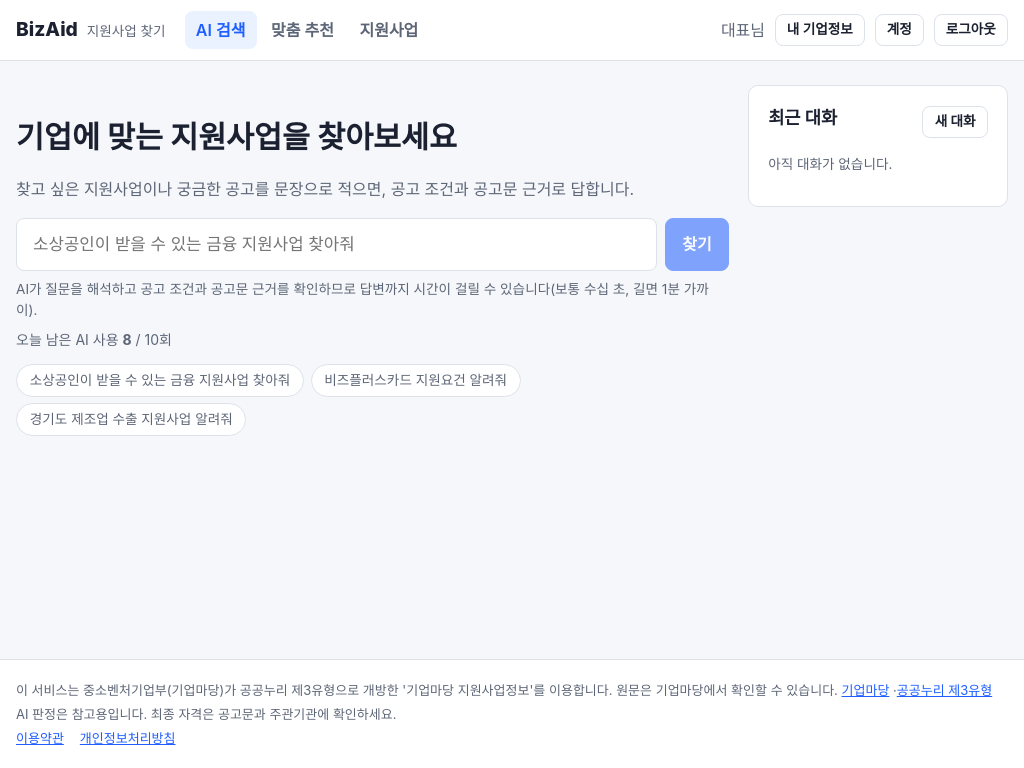
Test: AI 검색 목록에 기업 지역 제외 안내를 표시한다
In the field named "지원사업 질문": (337,244) [16,218,657,271], type "사업 찾아줘"
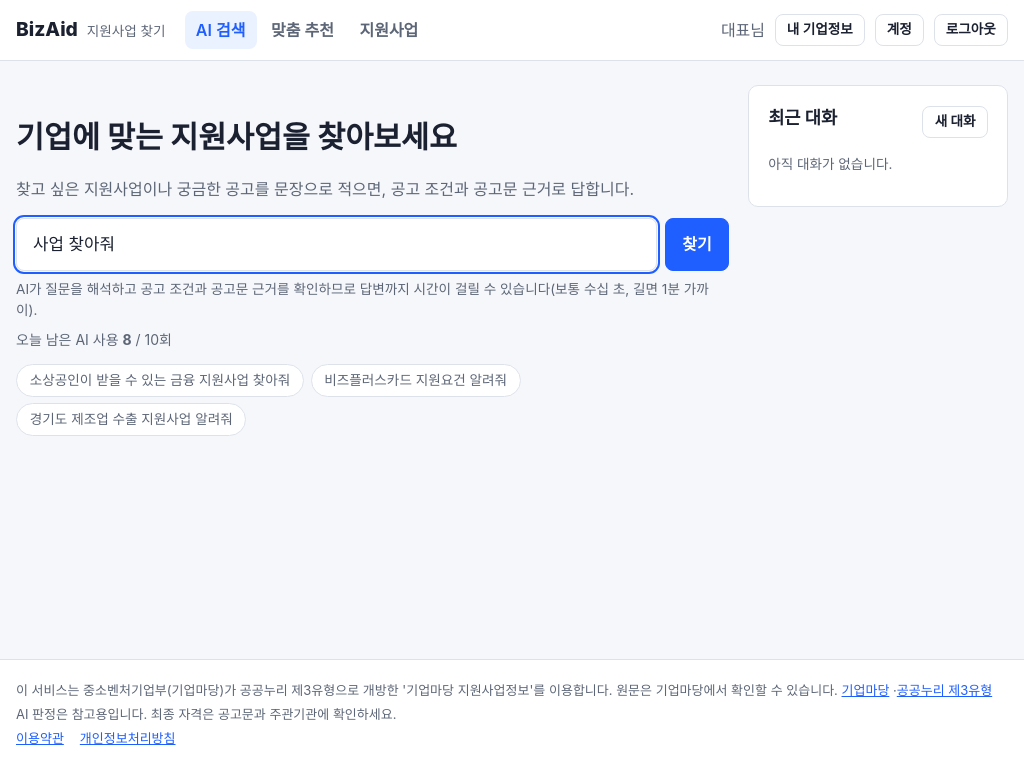
Click the button "찾기": (697,244) [665,218,729,271]
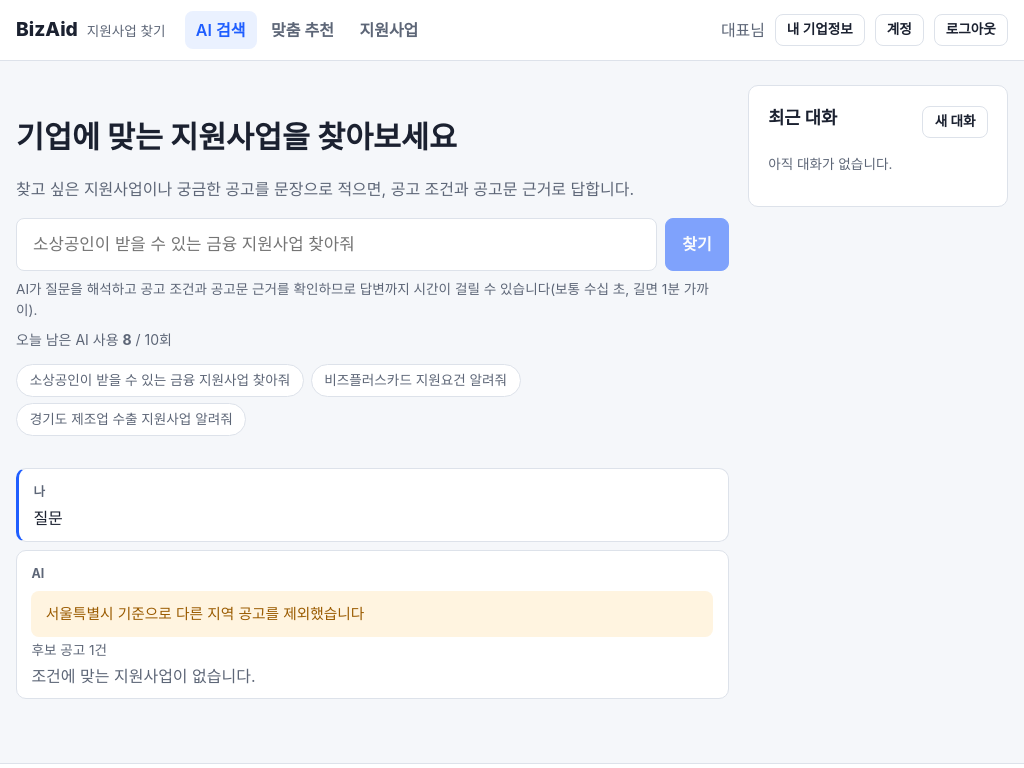
Check: the text "서울특별시 기준으로 다른 지역 공고를 제외했습니다" is shown, box [31,591,713,636]
